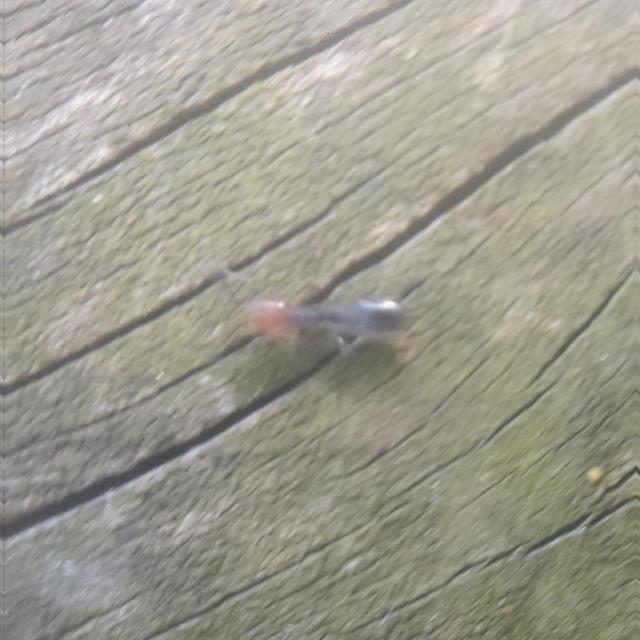Crematogaster: (223, 277, 427, 363)
